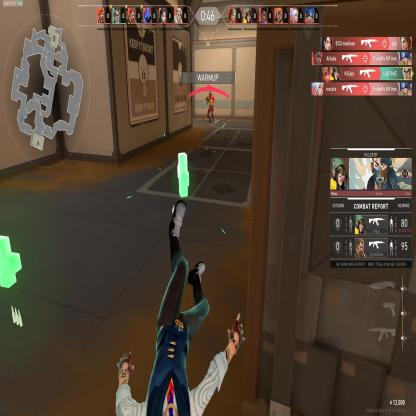enemy: (204, 89, 214, 126)
